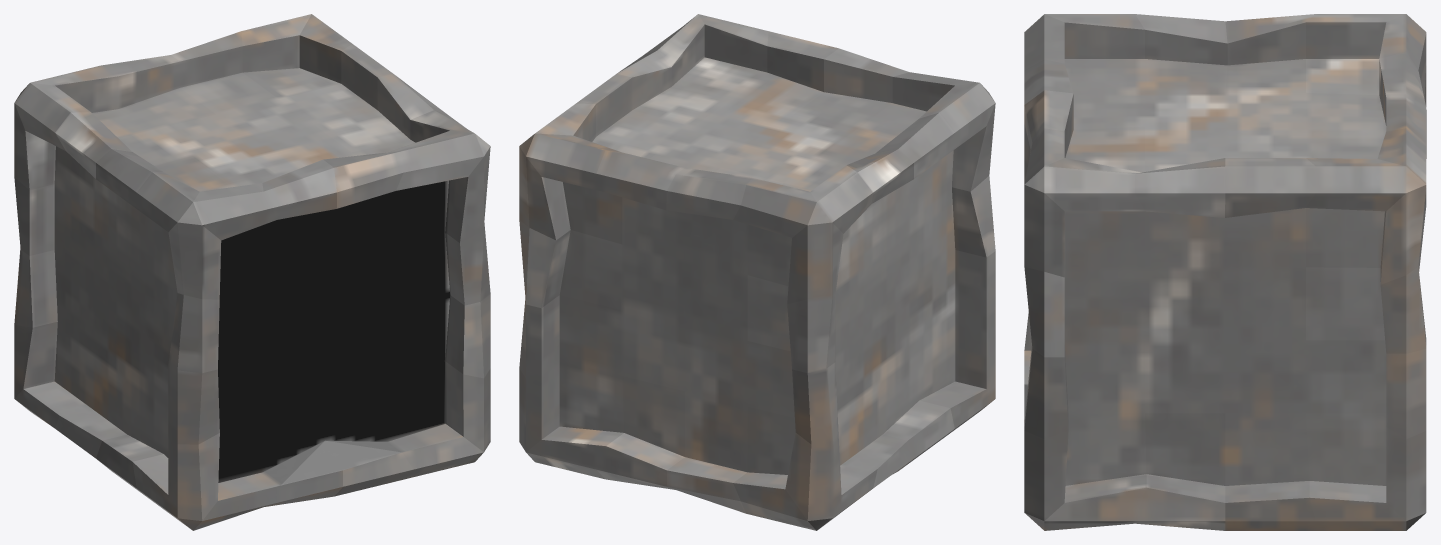
The model's file is Iron Drawer.fbx.
The picture shows the model from 3 angles, left to right: view 1: azimuth 30°, elevation 25°; view 2: azimuth 150°, elevation 25°; view 3: azimuth 270°, elevation 25°; orthographic projection. The views are drawn at different scales.
Visible parts, largest first — view 1: Cube; view 2: Cube; view 3: Cube.
Boxes of the visible parts, bbox=[...] form: Cube: bbox=[14, 14, 490, 530]; Cube: bbox=[519, 14, 995, 530]; Cube: bbox=[1024, 14, 1426, 530].
Size of the model in its own units: 100 by 100 by 100.
Materials: 1 (1 with a texture image).
